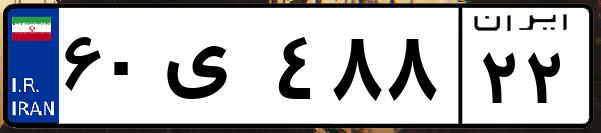0: (110, 28, 158, 98)
2: (475, 38, 525, 113), (525, 38, 570, 115)
4: (270, 28, 330, 110)
6: (57, 26, 110, 100)
8: (385, 28, 445, 110), (330, 28, 385, 110)
ی: (158, 20, 270, 120)
